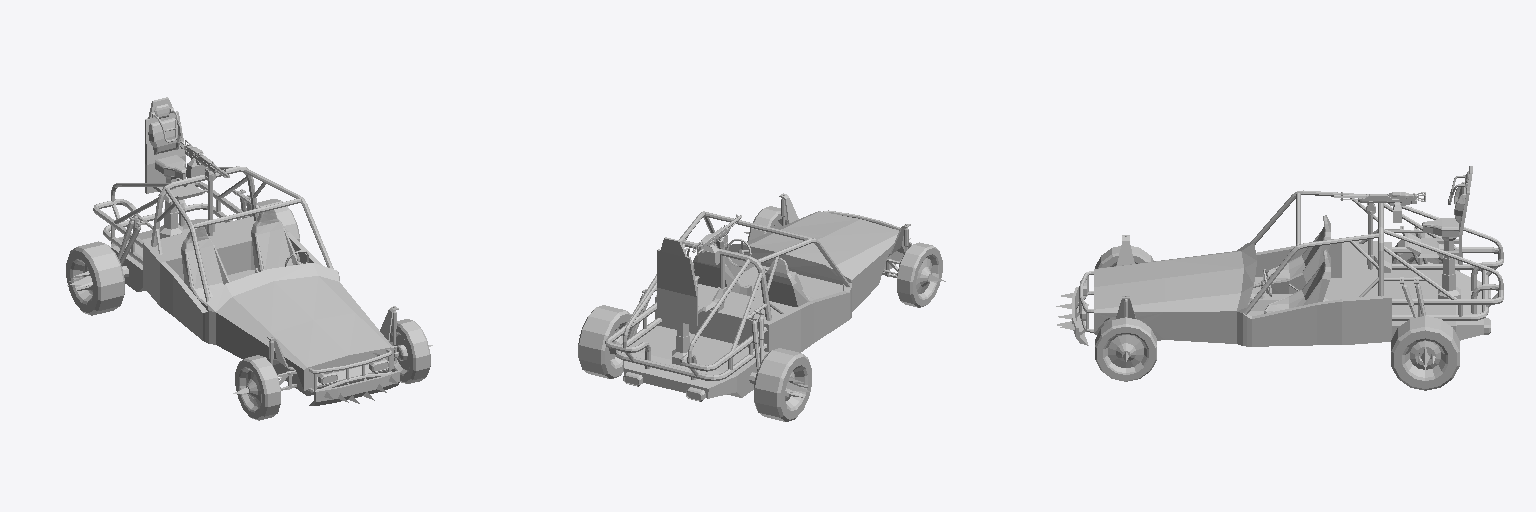
The model's file is buggy.obj.
3 views of the same model, side by side, from view 1: azimuth 30°, elevation 25°; view 2: azimuth 150°, elevation 25°; view 3: azimuth 270°, elevation 25° (orthographic).
Parts seen in each view (by area): view 1: buggy; view 2: buggy; view 3: buggy.
Boxes of the visible parts, x1,y1,x2,y2 form: buggy: [66, 97, 432, 420]; buggy: [578, 193, 945, 421]; buggy: [1056, 166, 1503, 390].
Size of the model in its own units: 15.4 by 10.96 by 25.75.